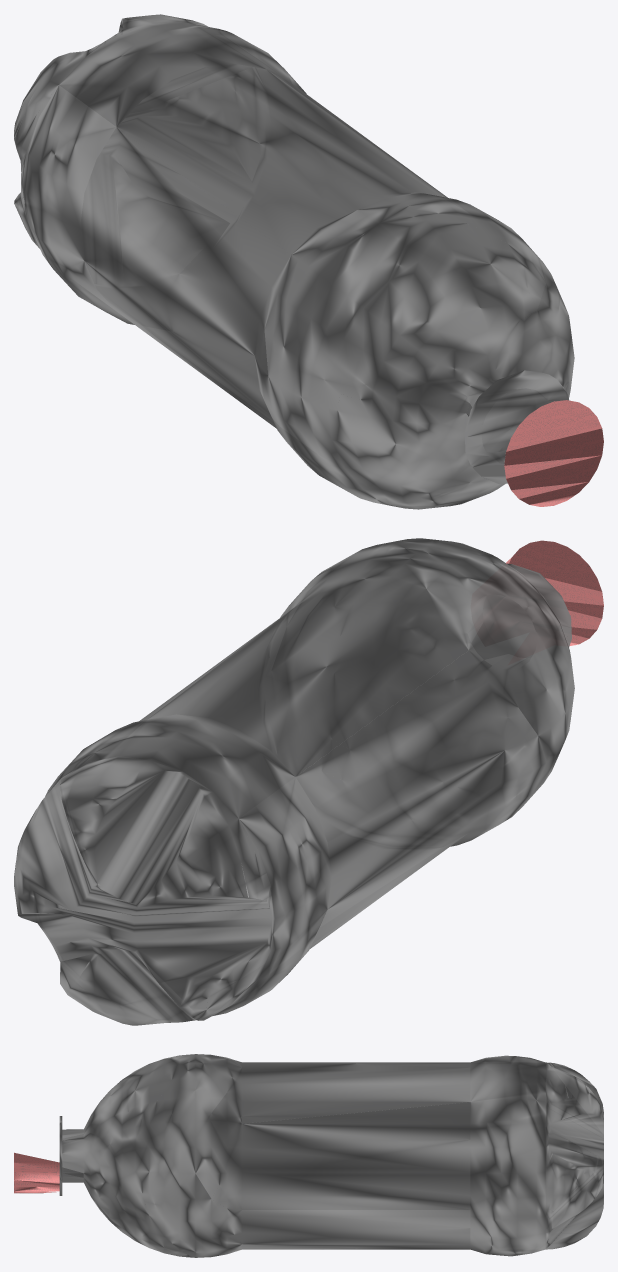
The model's file is model_align.obj.
3 renders of one model, top to bottom at view 1: azimuth 30°, elevation 25°; view 2: azimuth 150°, elevation 25°; view 3: azimuth 270°, elevation 25°, orthographic. The views are drawn at different scales.
Size of the model in its own units: 0.0927 by 0.0927 by 0.2671.
